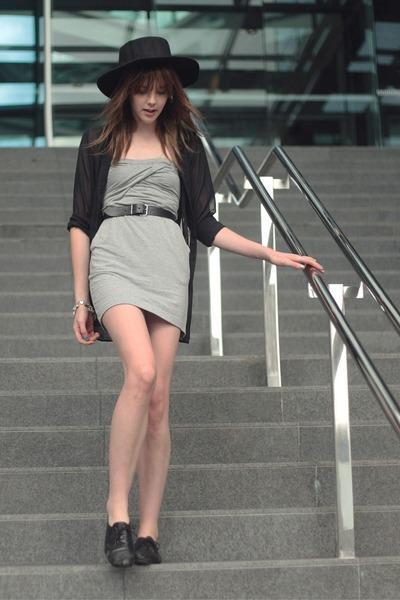dress: (85, 144, 189, 341)
hat: (90, 36, 199, 96)
jacket: (67, 121, 239, 354)
shoe: (105, 522, 155, 577)
